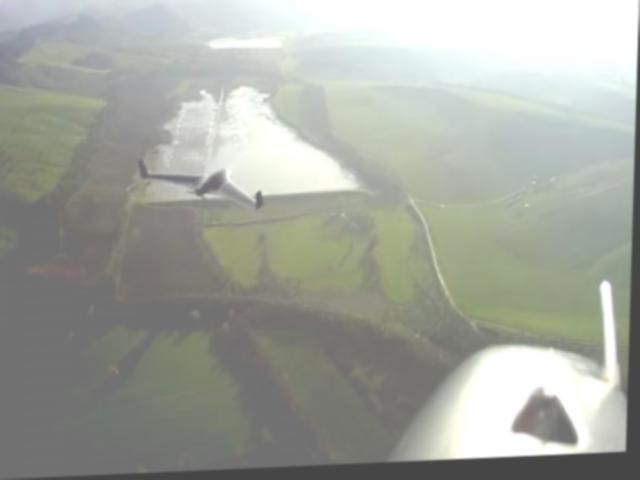iha: (132, 155, 263, 216)
